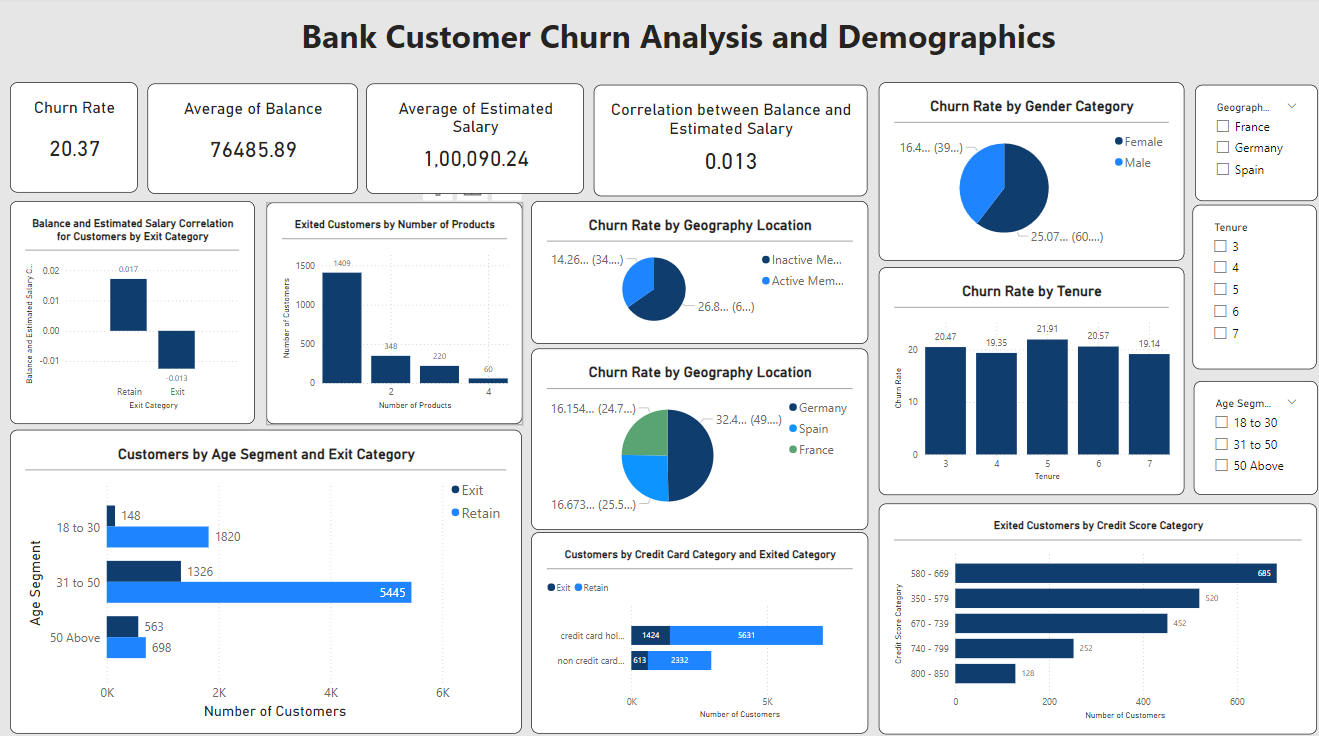

What the dashboard file says about the page in this screenshot:
{"tool":"powerbi","page":{"name":"DashBoard","canvas":[1760,990],"ordinal":6},"visuals":[{"type":"clusteredBarChart","title":"Customers by Age Segment and Exit Category","fields":{"Category":["capstoneproject customerinfo.Age Segment"],"Series":["capstoneproject exitcustomer.ExitCategory"],"Y":["CountNonNull(capstoneproject customerinfo.CustomerId)"]},"box":[13.5,575,679.3,403.5],"z":0},{"type":"pieChart","title":"Churn Rate by Gender Category","fields":{"Category":["capstoneproject gender.GenderCategory"],"Y":["capstoneproject bank_churn.Churn Rate"]},"box":[1166.9,114.3,405.2,237.1],"z":1000},{"type":"pieChart","title":"Churn Rate by Geography Location","fields":{"Category":["capstoneproject geography.GeographyLocation"],"Y":["capstoneproject bank_churn.Churn Rate"]},"box":[704.5,467.4,447.3,240.4],"z":2000},{"type":"clusteredColumnChart","title":"Churn Rate by Tenure","fields":{"Category":["capstoneproject bank_churn.Tenure"],"Y":["capstoneproject bank_churn.Churn Rate"]},"box":[1166.9,359.8,405.2,302.7],"z":3000},{"type":"card","title":"Correlation between Balance and Estimated Salary","fields":{"Values":["capstoneproject activecustomer.Balance and EstimatedSalary correlation for CustomerId"]},"box":[788.6,117.7,363.2,148],"z":4000},{"type":"columnChart","title":"Balance and Estimated Salary Correlation for Customers by Exit Category","fields":{"Y":["capstoneproject bank_churn.Balance and EstimatedSalary correlation for CustomerId"],"Category":["capstoneproject exitcustomer.ExitCategory"]},"box":[13.5,272.4,324.5,295.9],"z":5000},{"type":"barChart","title":"Exited Customers by Credit Score Category","fields":{"Category":["capstoneproject bank_churn.Credit Score Category"],"Y":["capstoneproject bank_churn.Exited Customers"]},"box":[1166.9,674.2,581.8,306],"z":6000},{"type":"columnChart","title":"Exited Customers by Number of Products","fields":{"Category":["capstoneproject bank_churn.NumOfProducts"],"Y":["capstoneproject bank_churn.Exited Customers"]},"box":[353.1,274.1,339.6,294.2],"z":7000},{"type":"barChart","title":"Customers by Credit Card Category and Exited Category","fields":{"Category":["capstoneproject creditcard.Category"],"Y":["CountNonNull(capstoneproject bank_churn.CustomerId)"],"Series":["capstoneproject exitcustomer.ExitCategory"]},"box":[704.5,711.2,447.3,267.3],"z":8000},{"type":"pieChart","title":"Churn Rate by Geography Location","fields":{"Category":["capstoneproject activecustomer.ActiveCategory"],"Y":["capstoneproject bank_churn.Churn Rate"]},"box":[704.5,272.4,447.3,190],"z":9000},{"type":"card","title":"Churn Rate","fields":{"Values":["capstoneproject bank_churn.Churn Rate"]},"box":[13.5,114.3,169.8,146.3],"z":10000},{"type":"card","title":"Average of  Balance","fields":{"Values":["capstoneproject bank_churn.Average Overall Balance"]},"box":[195,116,279.1,146.3],"z":11000},{"type":"card","title":"Average of  Estimated Salary","fields":{"Values":["capstoneproject activecustomer.Average Estimated Salary"]},"box":[485.9,116,289.2,146.3],"z":12000},{"type":"slicer","title":"Exited Customers by Credit Score Category","fields":{"Values":["capstoneproject geography.GeographyLocation"]},"box":[1585.6,117.7,163.1,154.7],"z":13000},{"type":"slicer","title":"Exited Customers by Credit Score Category","fields":{"Values":["capstoneproject bank_churn.Tenure"]},"box":[1583.1,277.7,164.7,218.2],"z":14000},{"type":"textbox","box":[395.1,18.5,1025.7,70.6],"z":15000},{"type":"slicer","title":"Exited Customers by Credit Score Category","fields":{"Values":["capstoneproject customerinfo.Age Segment"]},"box":[1583.9,511.1,164.8,151.3],"z":16000}]}

Visuals, with their boxes in screenshot pixels (x1, y1, x2, y2), scaled from the page's 1760x990 canvas onto the 1319x736 screenshot:
"Customers by Age Segment and Exit Category" clusteredBarChart: (x1=10, y1=427, x2=519, y2=727)
"Churn Rate by Gender Category" pieChart: (x1=875, y1=85, x2=1178, y2=261)
"Churn Rate by Geography Location" pieChart: (x1=528, y1=347, x2=863, y2=526)
"Churn Rate by Tenure" clusteredColumnChart: (x1=875, y1=267, x2=1178, y2=493)
"Correlation between Balance and Estimated Salary" card: (x1=591, y1=88, x2=863, y2=198)
"Balance and Estimated Salary Correlation for Customers by Exit Category" columnChart: (x1=10, y1=203, x2=253, y2=422)
"Exited Customers by Credit Score Category" barChart: (x1=875, y1=501, x2=1311, y2=729)
"Exited Customers by Number of Products" columnChart: (x1=265, y1=204, x2=519, y2=422)
"Customers by Credit Card Category and Exited Category" barChart: (x1=528, y1=529, x2=863, y2=727)
"Churn Rate by Geography Location" pieChart: (x1=528, y1=203, x2=863, y2=344)
"Churn Rate" card: (x1=10, y1=85, x2=137, y2=194)
"Average of  Balance" card: (x1=146, y1=86, x2=355, y2=195)
"Average of  Estimated Salary" card: (x1=364, y1=86, x2=581, y2=195)
"Exited Customers by Credit Score Category" slicer: (x1=1188, y1=88, x2=1311, y2=203)
"Exited Customers by Credit Score Category" slicer: (x1=1186, y1=206, x2=1310, y2=369)
textbox: (x1=296, y1=14, x2=1065, y2=66)
"Exited Customers by Credit Score Category" slicer: (x1=1187, y1=380, x2=1311, y2=492)
